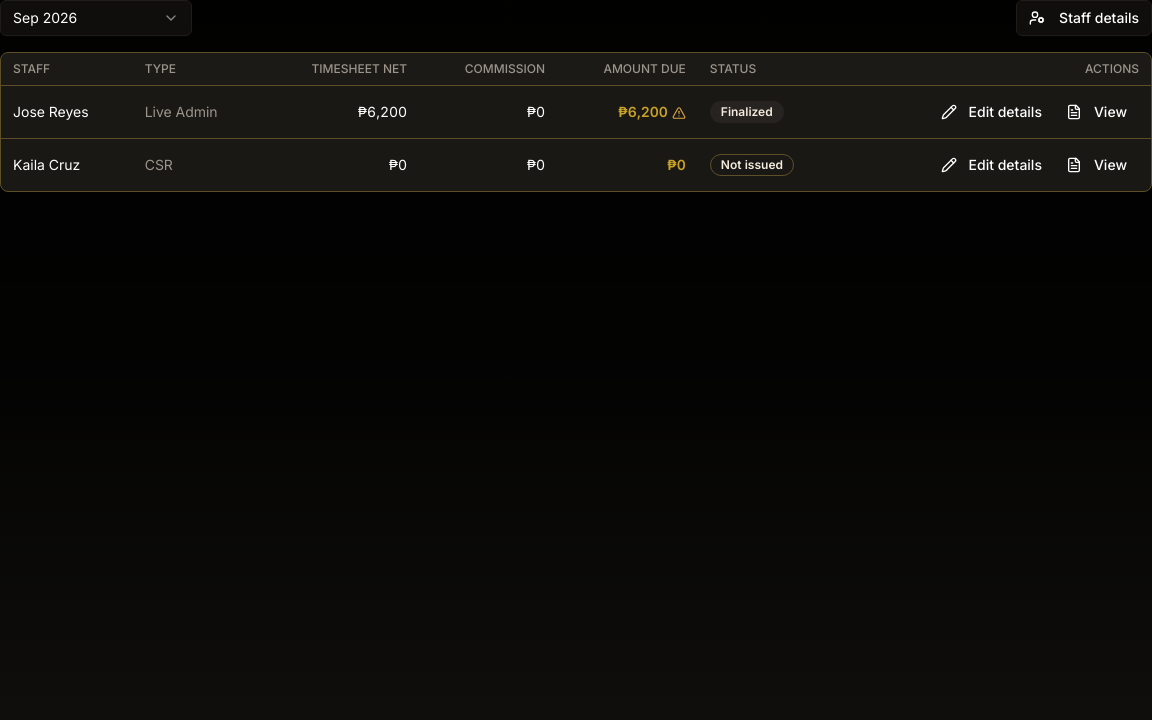
Scenario: Payslips tab › when no market rate can be fetched the yen stays empty and says so
Click the button "View" in the row of "Jose Reyes". click: (1096,112)
box: [1054,94,1139,130]
(page scrolled)
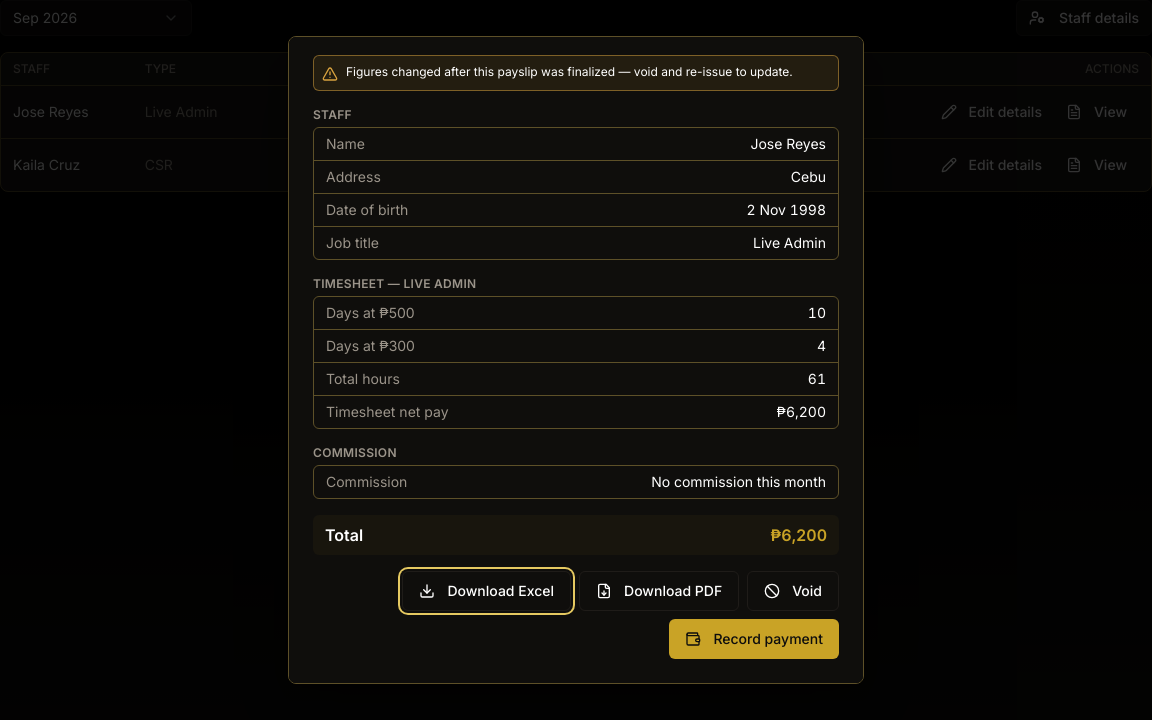
Click the button "Record payment". click: (754,639)
box: [669,619,839,659]
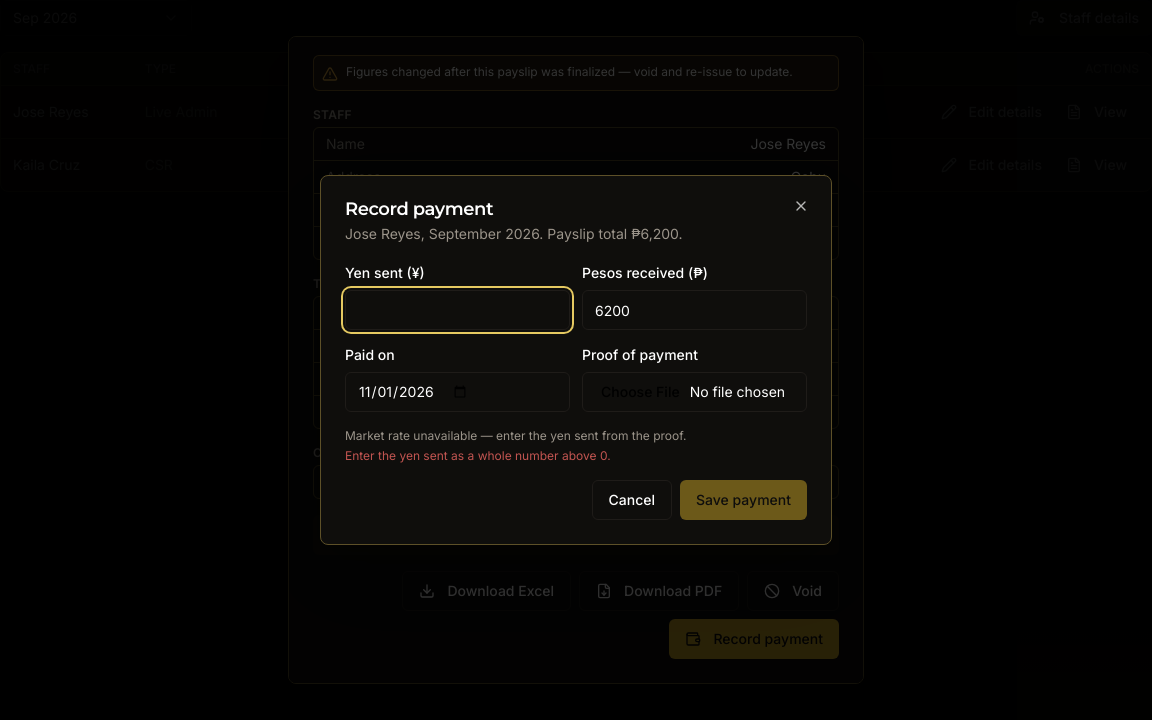
Now the text with test id "market-rate" reads "Market rate unavailable — enter the yen sent from the proof.", box [345,428,686,443]
Now the field labelled "Yen sent (¥)" is empty, box [345,290,570,330]
